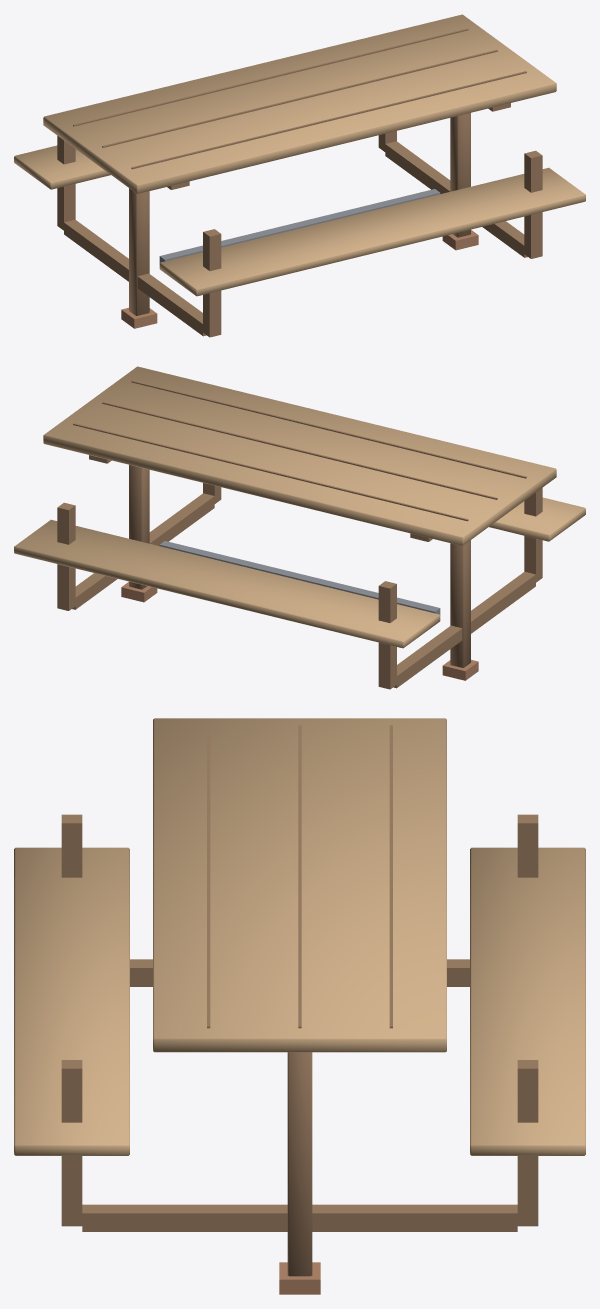
Rendered from PicnicTable_Wood.fbx.
The picture shows the model from 3 angles, top to bottom: view 1: azimuth 30°, elevation 25°; view 2: azimuth 150°, elevation 25°; view 3: azimuth 270°, elevation 25°; orthographic projection. The views are drawn at different scales.
Visible parts, largest first — view 1: LOD0; view 2: LOD0; view 3: LOD0.
Boxes of the visible parts, x1=… form: LOD0: x1=14, y1=14, x2=585, y2=337; LOD0: x1=14, y1=366, x2=585, y2=689; LOD0: x1=14, y1=718, x2=585, y2=1294.
Size of what is drawn, in the model's own units: 183 by 76.5 by 138.
